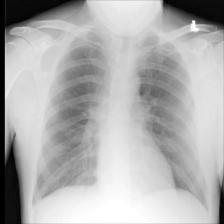normal: (29, 25, 210, 214)
